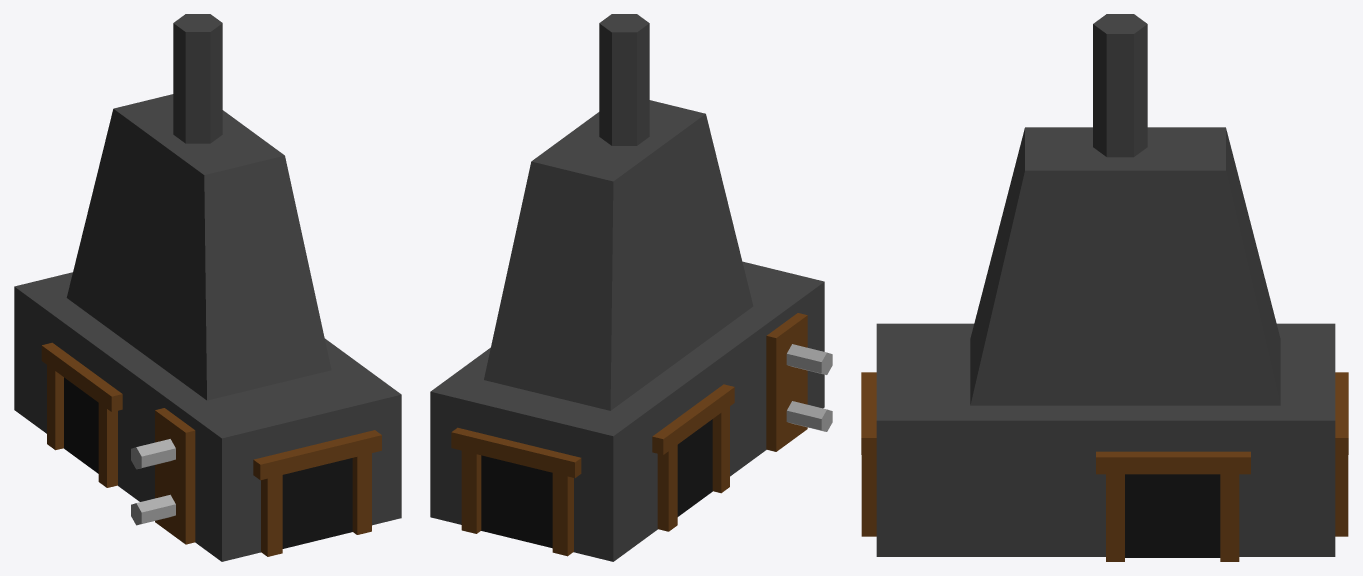
File: furnace.glb
3 renders of one model, left to right at view 1: azimuth 30°, elevation 25°; view 2: azimuth 150°, elevation 25°; view 3: azimuth 270°, elevation 25°, orthographic. The views are drawn at different scales.
Parts seen in each view (by area): view 1: Cube.004, Cube.002, Cube.001, Cube, BottomShaft, TopShaft; view 2: Cube.004, Cube.002, Cube.001, Cube, TopShaft, BottomShaft; view 3: Cube.004, Cube.001, Cube.002.
Boxes of the visible parts, left/top/right/bottom form: Cube.004: left=14, top=14, right=401, bottom=561; Cube.002: left=253, top=430, right=381, bottom=556; Cube.001: left=41, top=342, right=122, bottom=487; Cube: left=155, top=408, right=195, bottom=544; BottomShaft: left=131, top=494, right=175, bottom=525; TopShaft: left=131, top=439, right=175, bottom=469; Cube.004: left=430, top=14, right=824, bottom=561; Cube.002: left=451, top=427, right=581, bottom=556; Cube.001: left=652, top=384, right=734, bottom=531; Cube: left=766, top=313, right=807, bottom=451; TopShaft: left=786, top=344, right=832, bottom=374; BottomShaft: left=786, top=401, right=832, bottom=431; Cube.004: left=876, top=14, right=1335, bottom=556; Cube.001: left=1096, top=451, right=1250, bottom=561; Cube.002: left=861, top=372, right=1348, bottom=536.
Size of the model in its own units: 4.38 by 7.81 by 7.16.
